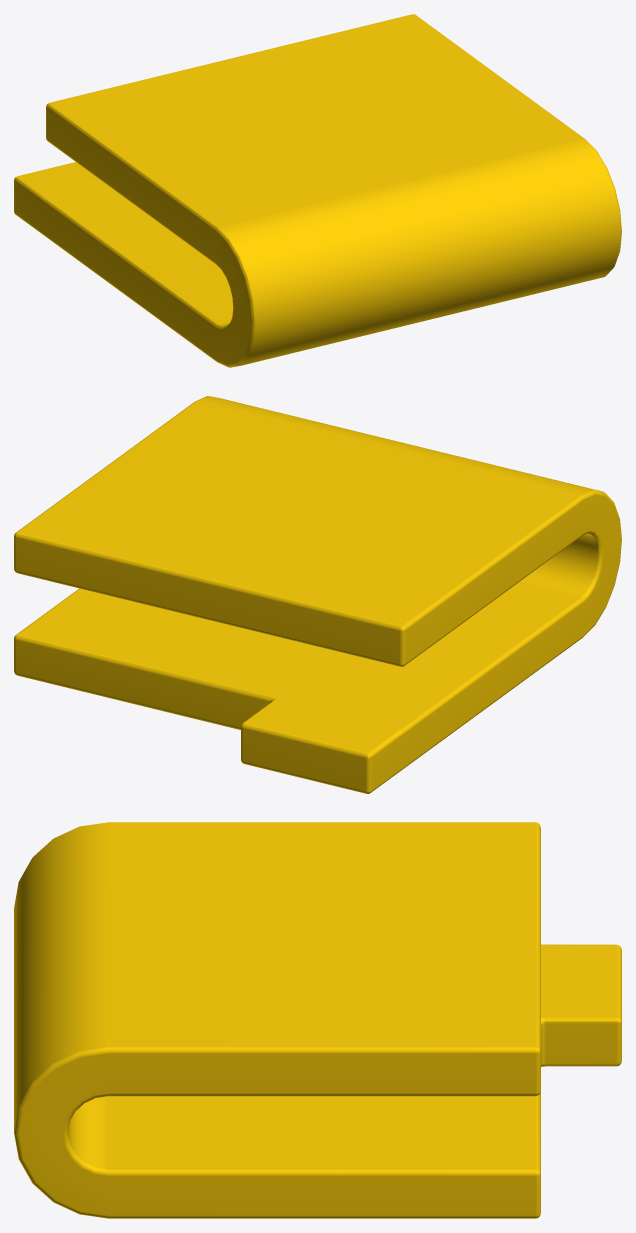
Rendered from folder.glb.
3 views of the same model, one above another, from view 1: azimuth 30°, elevation 25°; view 2: azimuth 150°, elevation 25°; view 3: azimuth 270°, elevation 25° (orthographic). The views are drawn at different scales.
Parts seen in each view (by area): view 1: folder; view 2: folder; view 3: folder.
Boxes of the visible parts, bbox=[...] form: folder: bbox=[14, 14, 621, 367]; folder: bbox=[14, 396, 621, 793]; folder: bbox=[14, 822, 621, 1218].
Bounding box in the file's own units: 10 × 3.5 × 11.25.
Materials: 1 (1 with a texture image).
